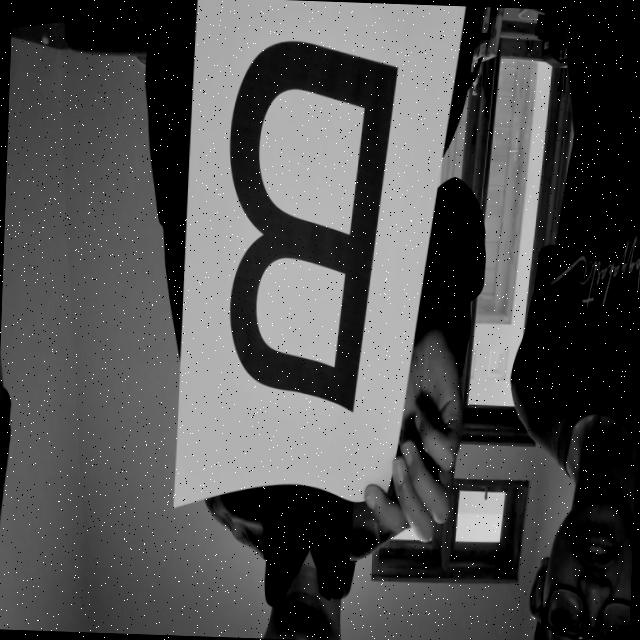b: (206, 26, 408, 426)
